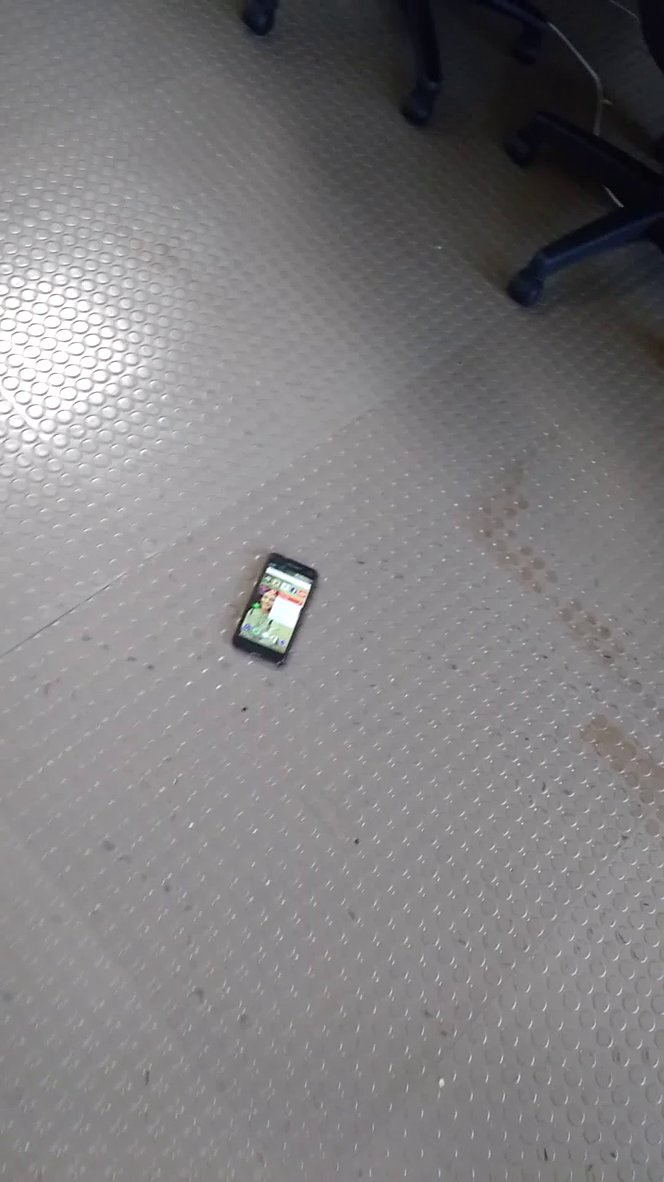phone: (223, 542, 331, 675)
